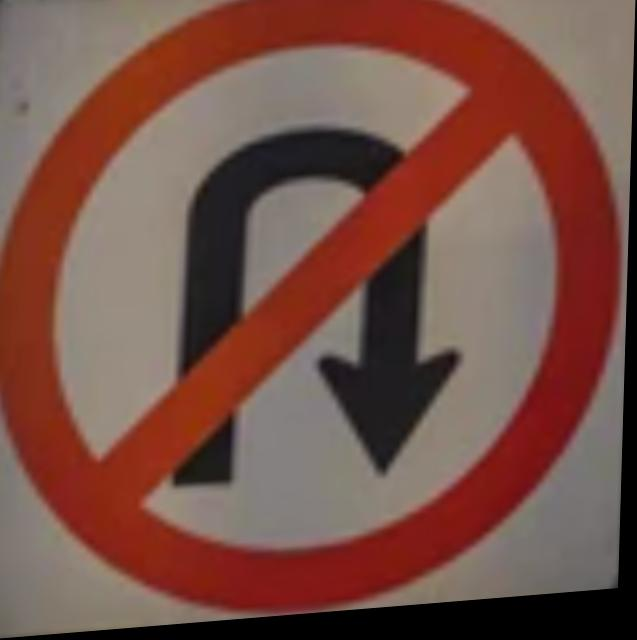not_u_turn_right: (2, 0, 633, 627)
